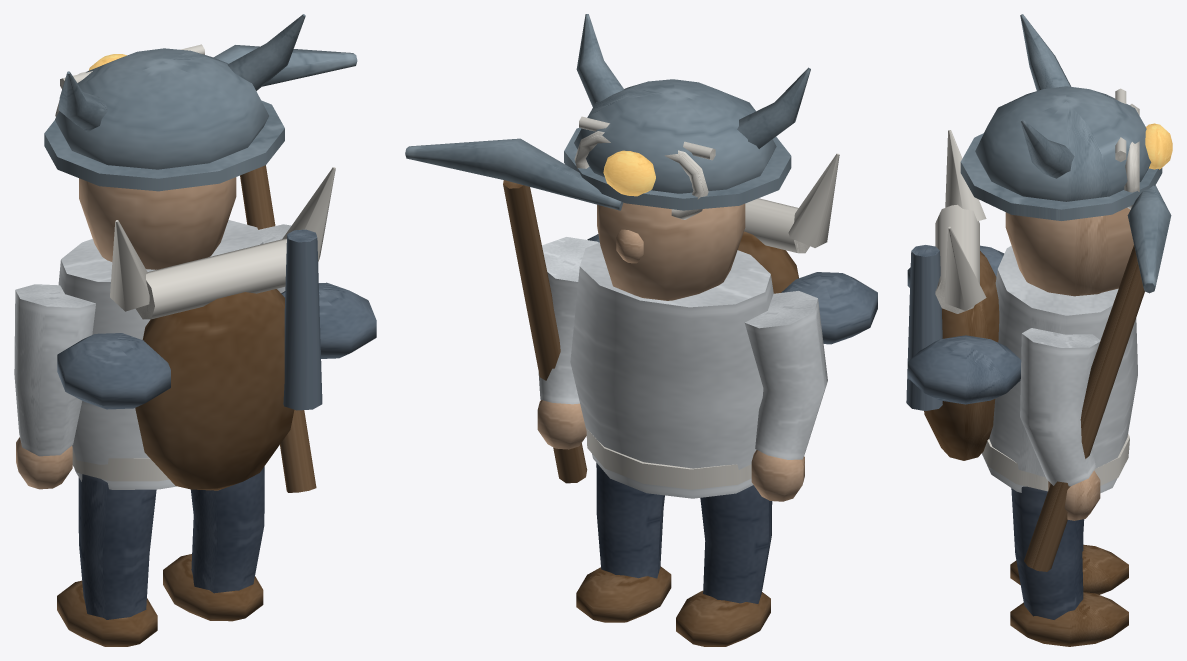
The model's file is miner.glb.
3 views of the same model, side by side, from view 1: azimuth 30°, elevation 25°; view 2: azimuth 150°, elevation 25°; view 3: azimuth 270°, elevation 25° (orthographic). The views are drawn at different scales.
Parts seen in each view (by area): view 1: Body, FactionBrute, LegL, ArmL, LegR, FactionIndustrial, Tool, FactionArcane; view 2: Body, Tool, ArmL, LegL, LegR, FactionBrute, ArmR, FactionArcane, FactionIndustrial; view 3: Body, ArmR, Tool, FactionBrute, LegR, FactionIndustrial, FactionArcane, LegL.
Boxes of the visible parts, x1,y1,x2,y2 form: Body: (44,48,294,490); FactionBrute: (57,14,376,409); LegL: (57,474,157,646); ArmL: (14,284,95,489); LegR: (163,466,264,621); FactionIndustrial: (55,44,322,410); Tool: (213,45,357,492); FactionArcane: (110,167,335,311); Body: (564,79,809,498); Tool: (405,138,623,483); ArmL: (745,291,827,501); LegL: (676,485,772,646); LegR: (576,463,671,622); FactionBrute: (576,14,877,344); ArmR: (537,237,598,449); FactionArcane: (788,153,839,247); FactionIndustrial: (574,116,715,219); Body: (924,86,1172,493); ArmR: (1020,328,1100,520); Tool: (1024,185,1171,571); FactionBrute: (907,14,1074,404); LegR: (1010,486,1128,646); FactionIndustrial: (906,88,1139,410); FactionArcane: (944,130,986,310); LegL: (1010,537,1128,594).
Bounding box in the file's own units: 0.2582 × 0.38 × 0.1666.
Materials: 8 (8 with a texture image).
